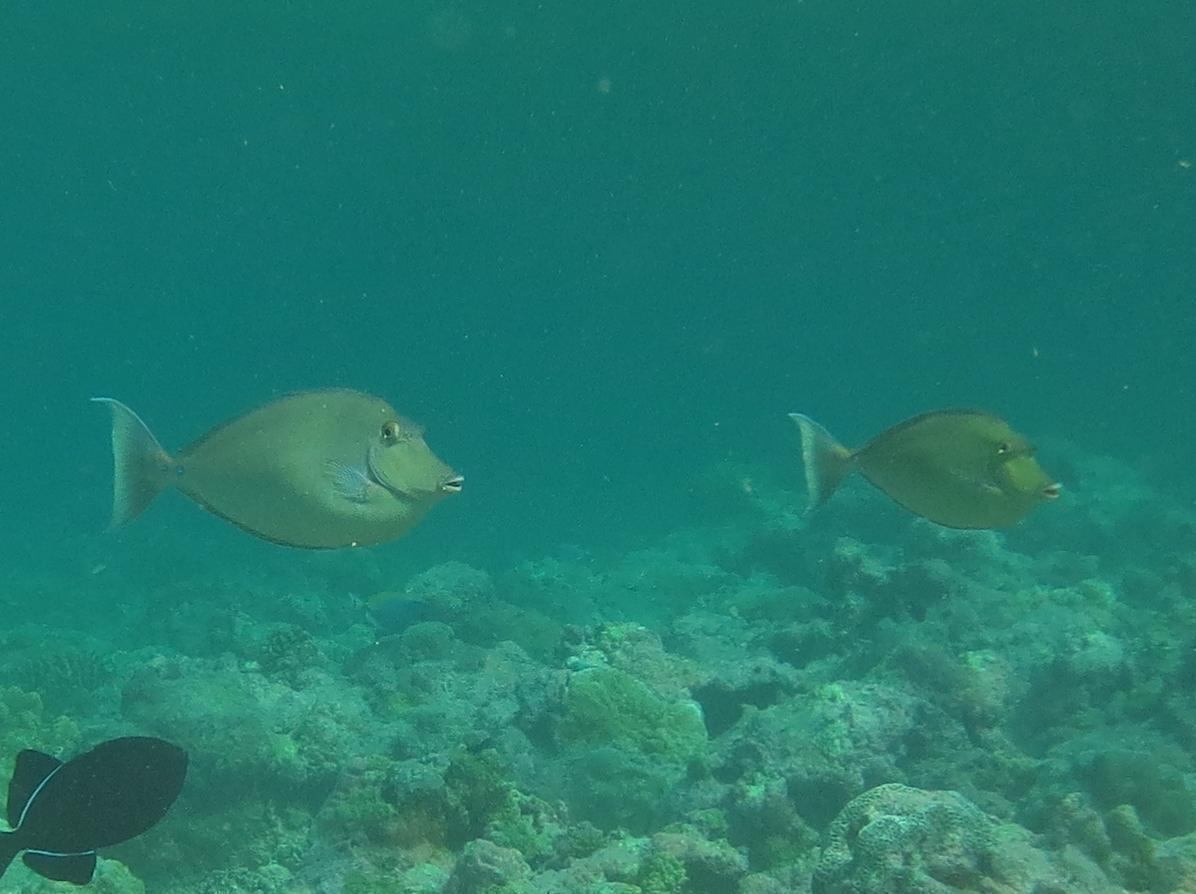Fish: (46, 344, 543, 610), (726, 393, 1102, 617)
